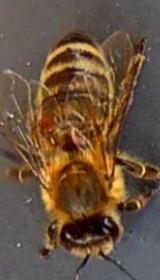varroa_mite: (32, 104, 60, 140)
